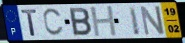B: (68, 7, 93, 37)
C: (42, 7, 65, 38)
H: (89, 5, 119, 38)
I: (128, 5, 142, 37)
N: (139, 5, 166, 37)
T: (20, 8, 39, 37)
